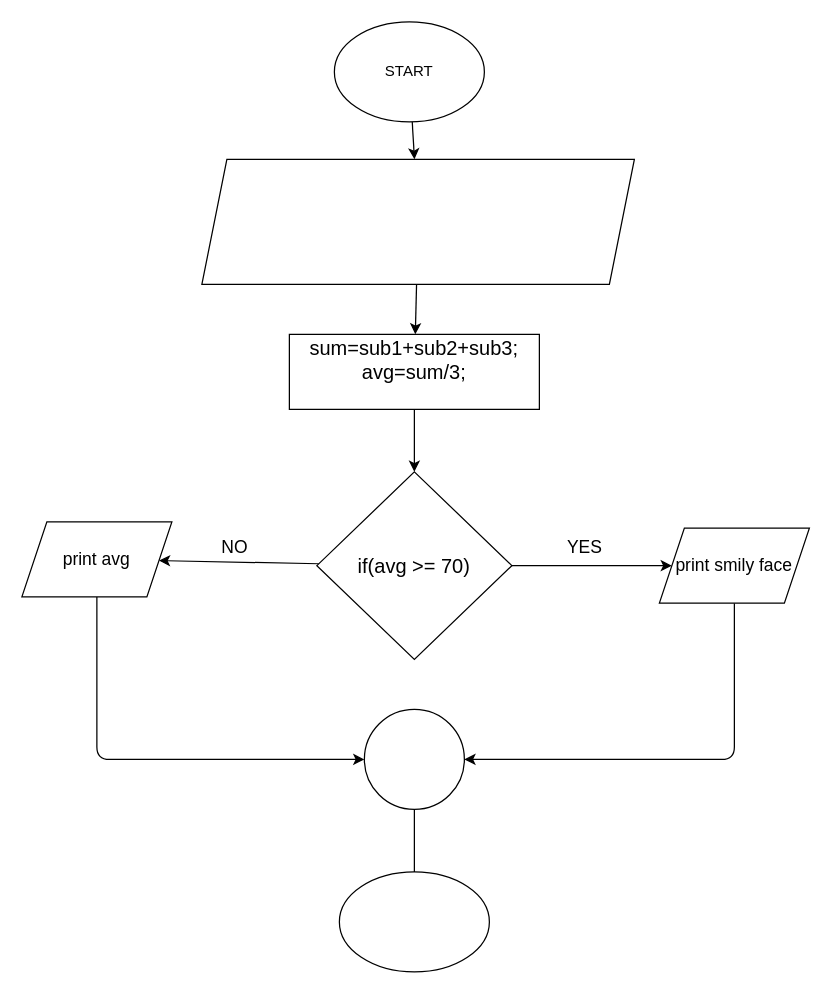
Some shapes in this 831 by 1004 pixel diagram are drawn without their labels. The box of each missing label's shape, as (x1, y1, x2, y2) in pixels:
END: (338, 871, 489, 972)
sub1=Input a number sub2=Input a number sub3=Input a number sum=0 avg: (201, 158, 634, 284)
